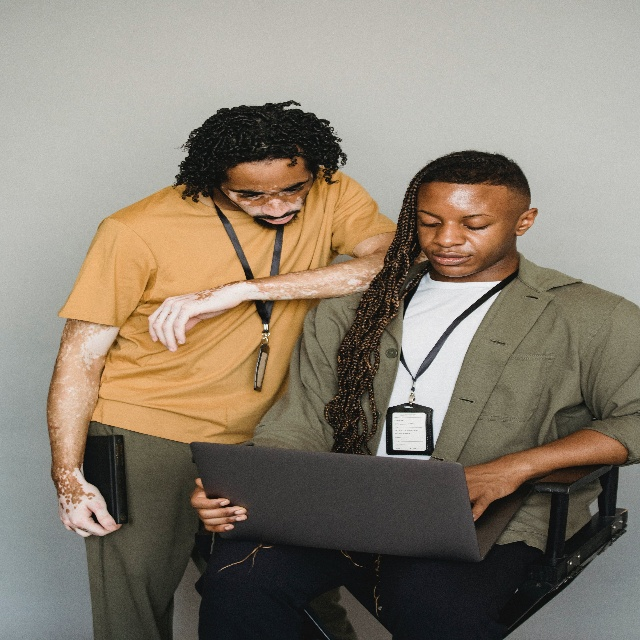Sin_guantes: (147, 278, 248, 352), (53, 468, 124, 538), (462, 450, 528, 522), (189, 474, 247, 533)
